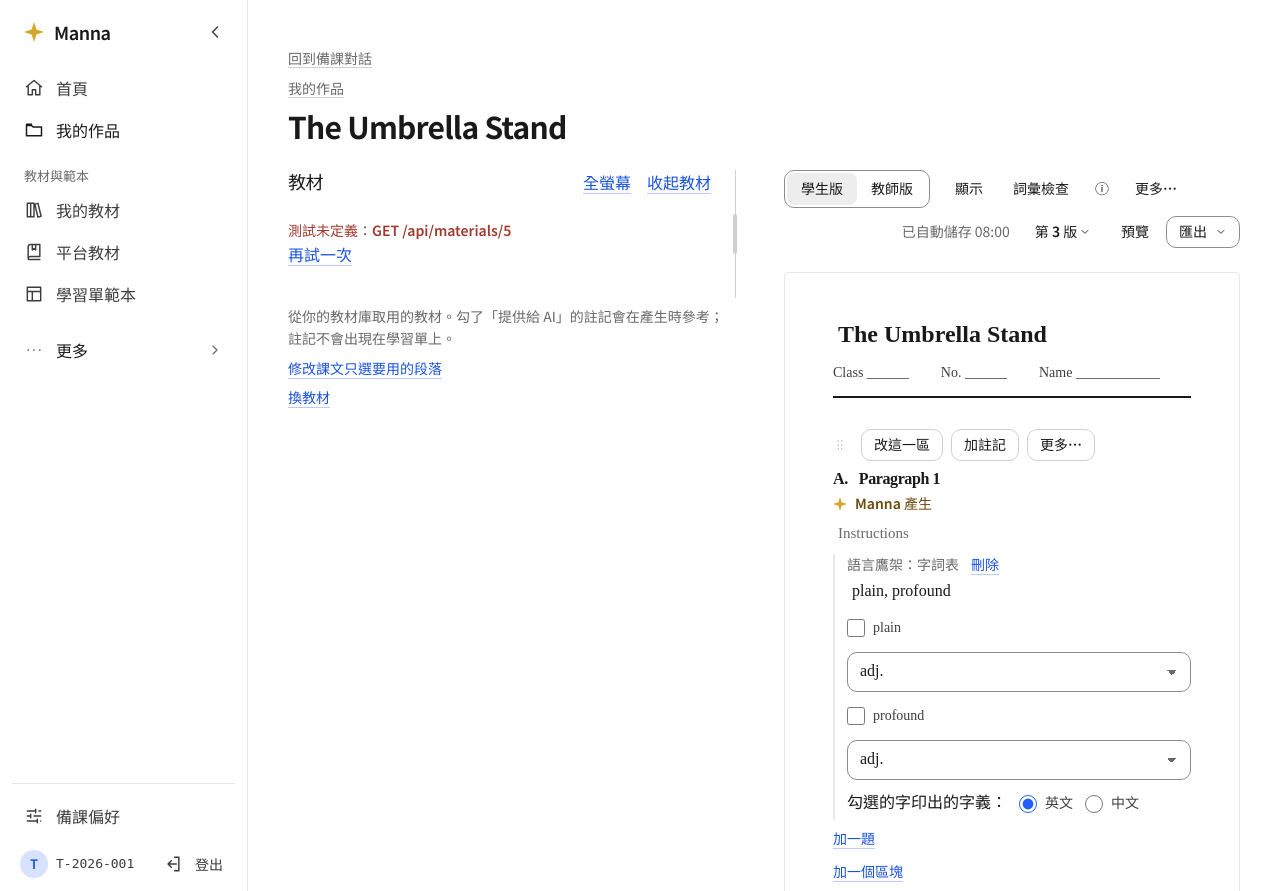
Test case: 字詞表鷹架 (Word bank) in the editor › lists the words with their part of speech; a tick shows the meaning in the chosen language
This screenshot has width=1280, height=891.
Check: the dropdown named "plain 的詞性（字詞表）" shows "adj.", box [847,652,1191,692]
Check: the text "easy to see" is not shown
Step 1. Click the checkbox named "plain 印出字義" → [856, 628], box [847,618,865,636]
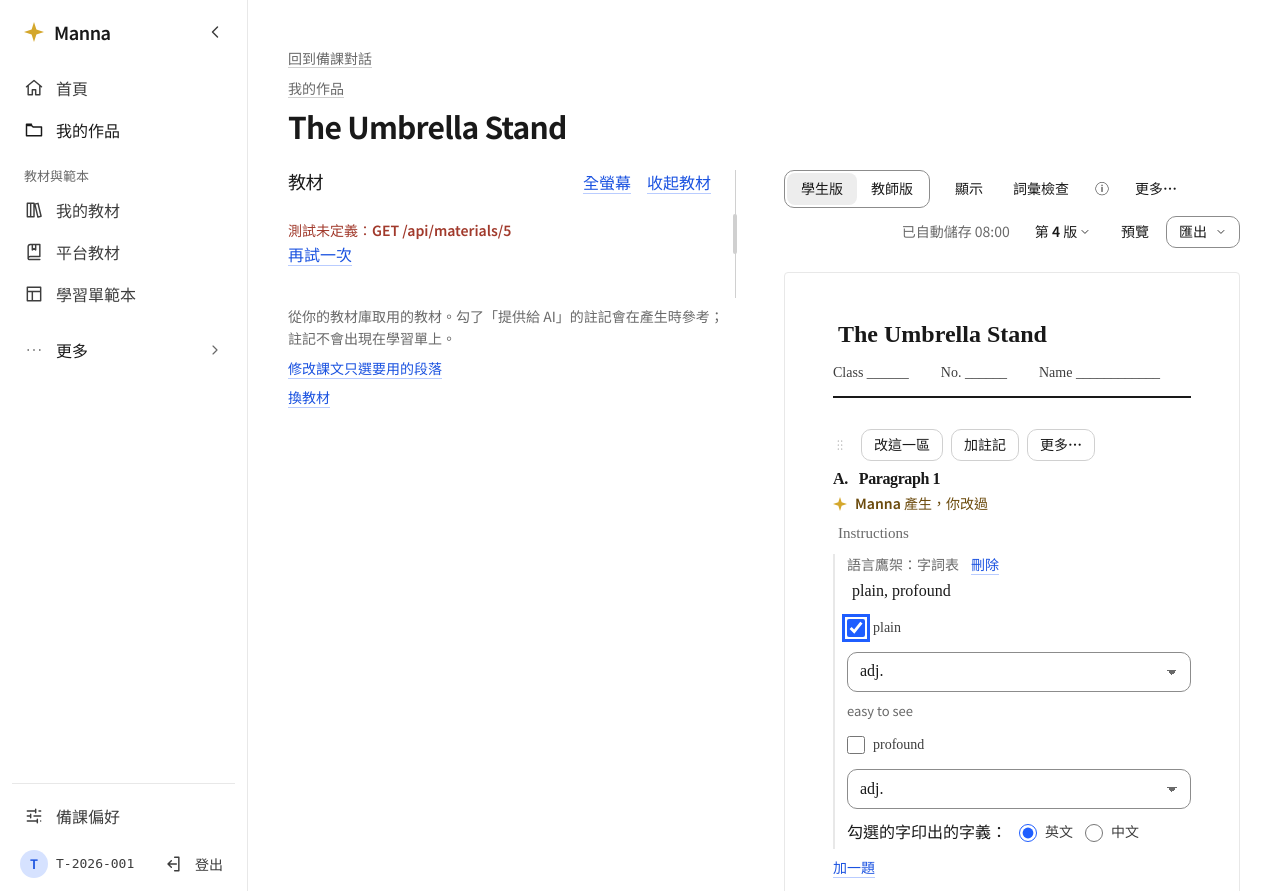
Check: the text "easy to see" is shown, box [847,700,913,721]
Step 2. Click the radio button labelled "中文" → [1094, 833], box [1085,824,1103,842]
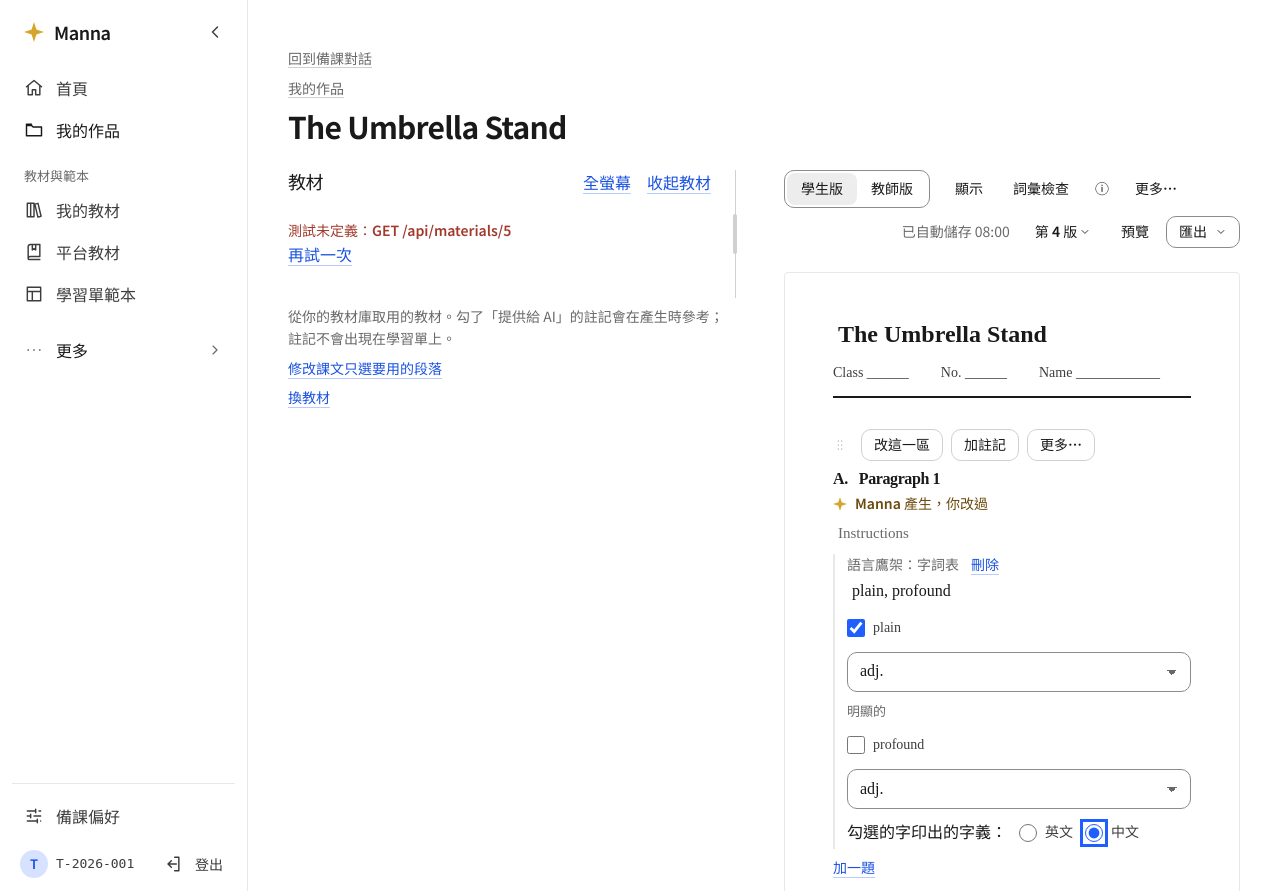
Check: the text "明顯的" is shown, box [847,700,886,721]
Check: the text "easy to see" is gone
